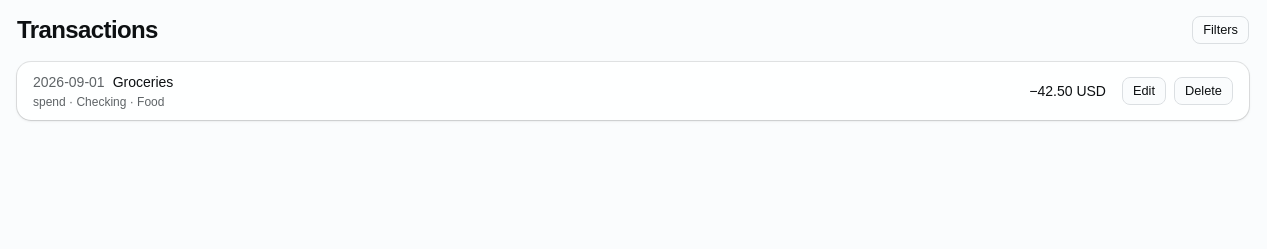
Scenario: TransactionsList › deletes a transaction and removes it from the list
expect the text "Groceries" is shown: met, box [113,72,173,92]
Click the button "Delete".
click(1204, 91)  # box [1174,77,1233,105]
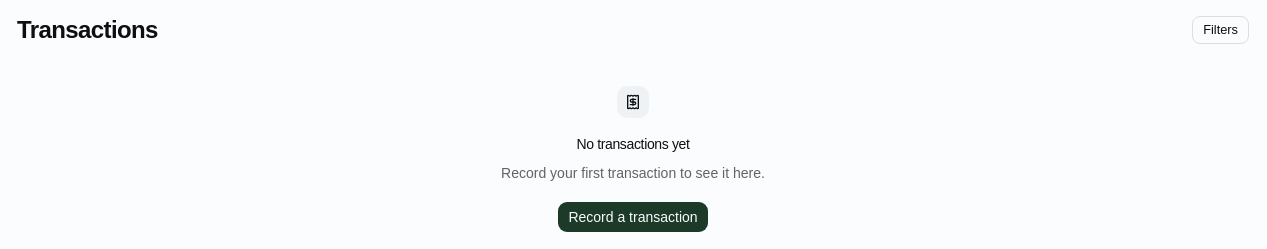
expect the text "Groceries" is gone: met
